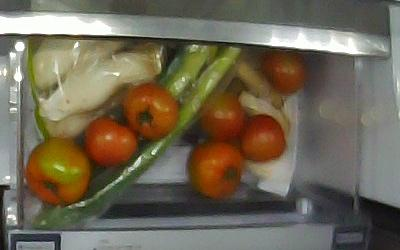tomato: (25, 139, 90, 203), (186, 139, 243, 198), (124, 83, 178, 139), (196, 91, 247, 142), (87, 117, 138, 166), (240, 114, 286, 162), (261, 51, 306, 95)
